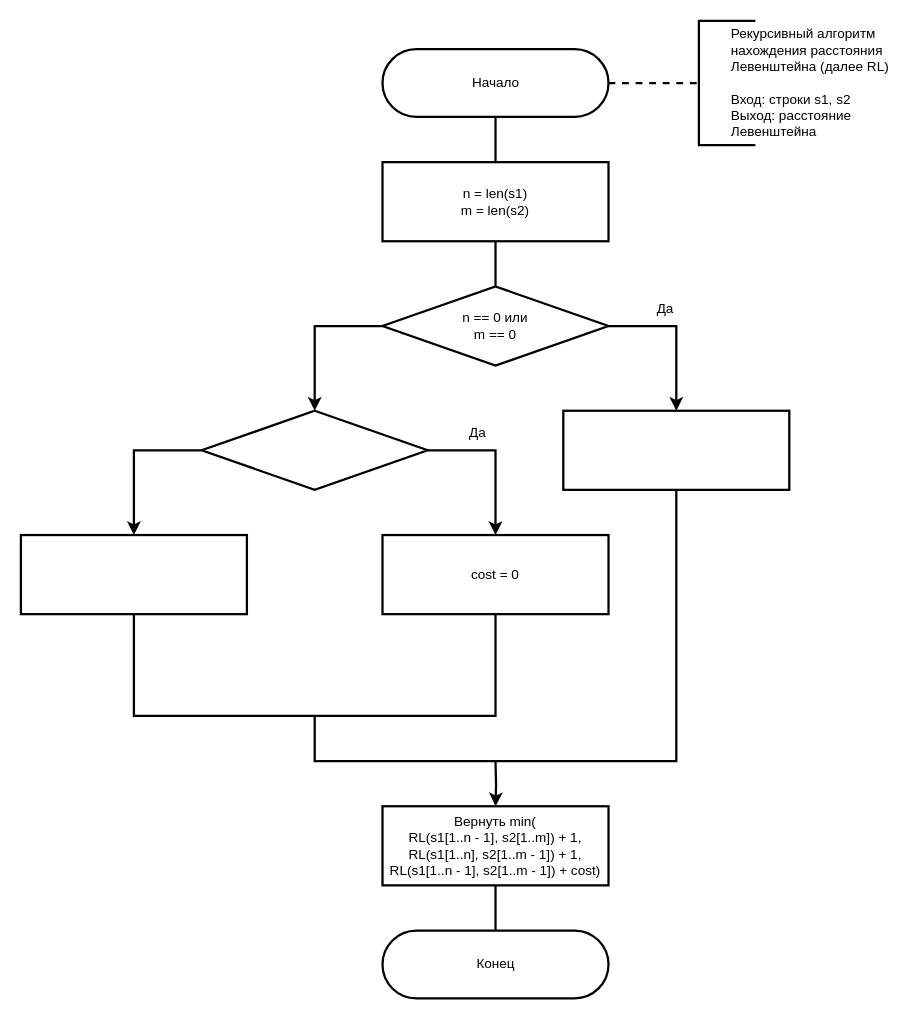
Some shapes in this 912 by 1018 pixel diagram are drawn without their labels. The shapes that lost their labels are listed below. From the top down, each one's box as (x1, y1, x2, y2) in pixels, then its label:
(200, 409, 428, 490): s1[n - 1] == s2[m - 1]
(562, 409, 790, 490): Вернуть |n - m|
(19, 533, 247, 615): cost = 1
